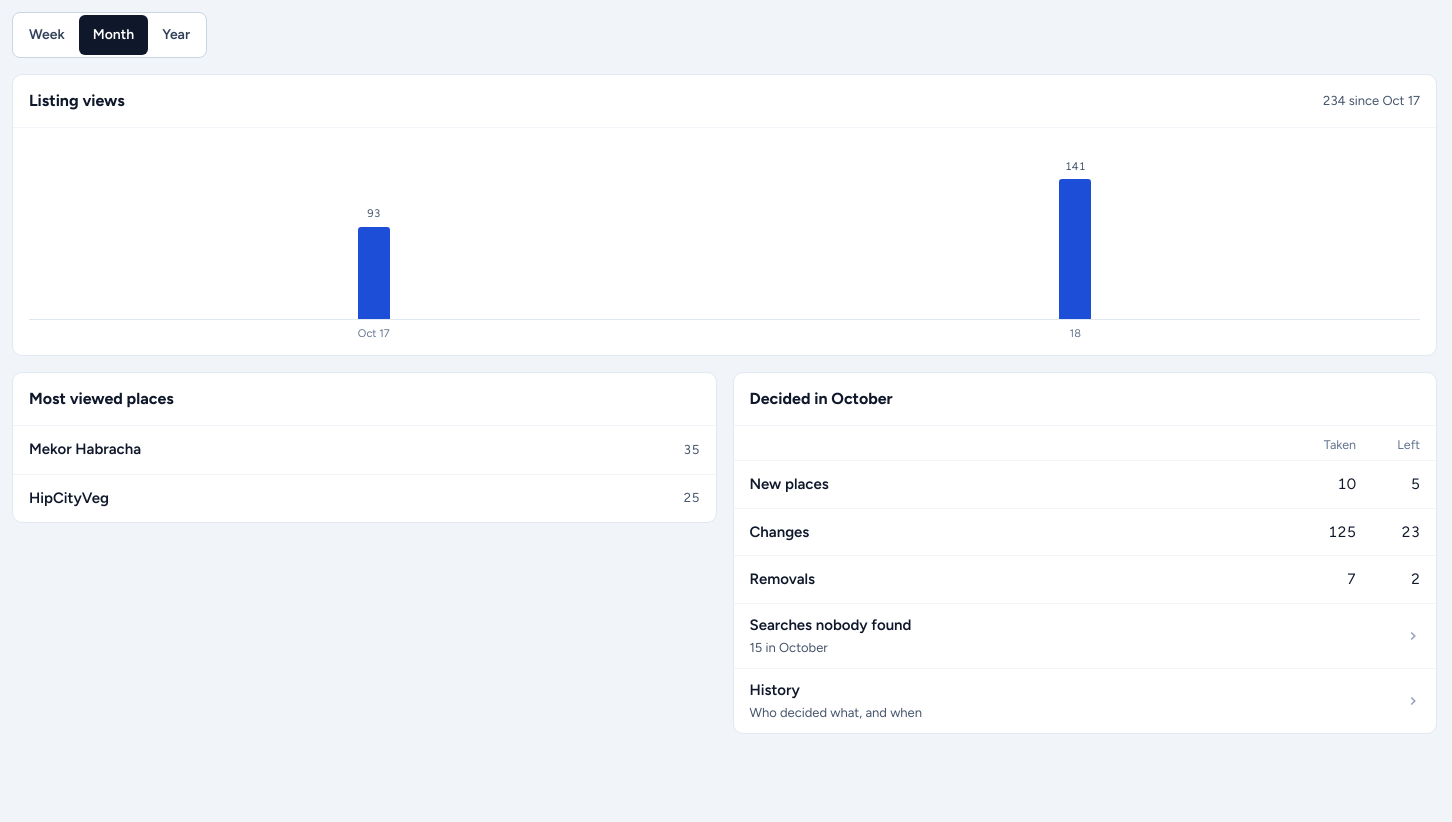
ReportsPanel › a week asks for the week and says so
Check: the heading "Listing views" is shown, box [29,91,125,110]
Click the button "Week".
click(47, 35)  # box [15,15,79,55]
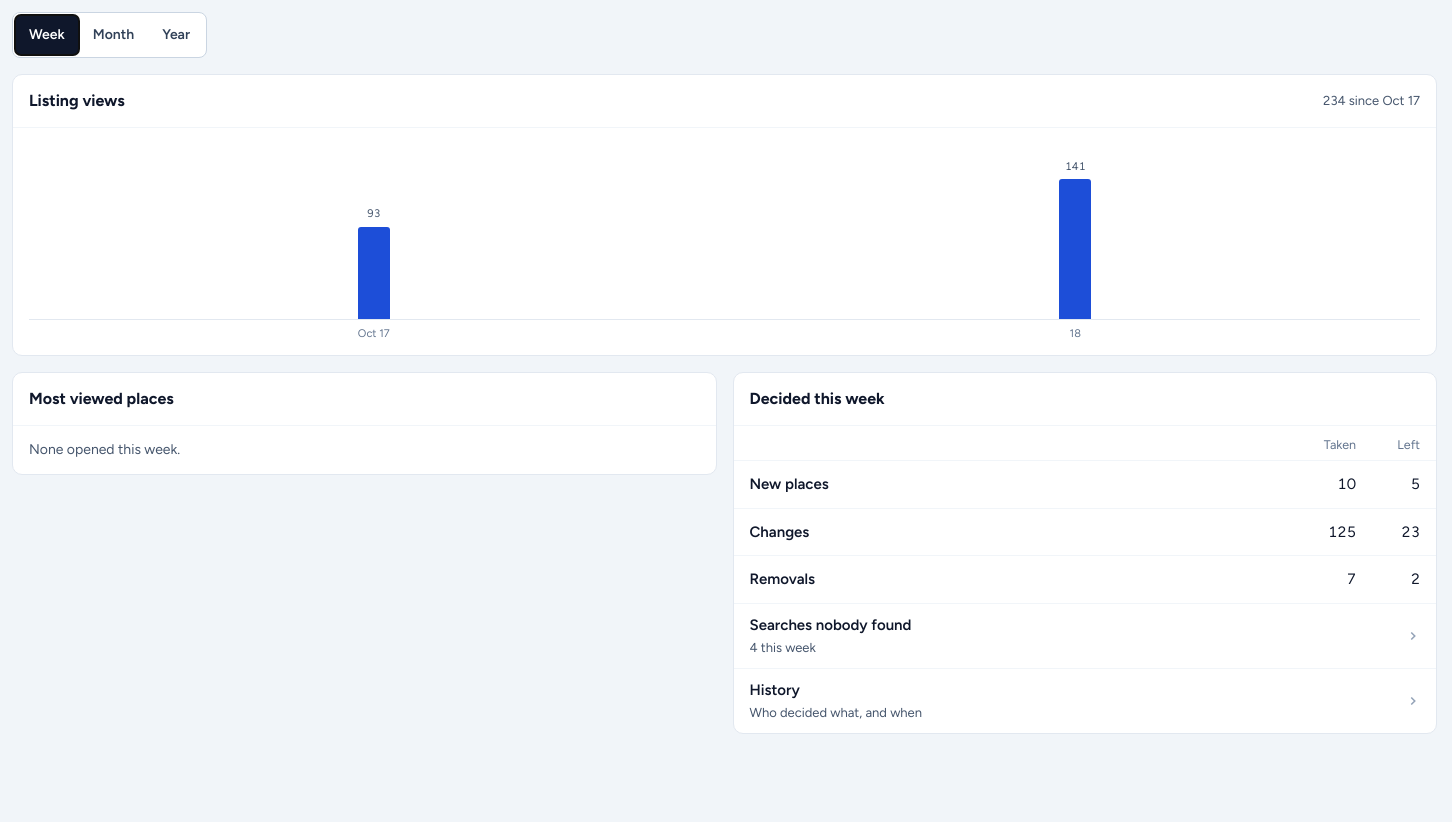
Check: the element "Decided this week" is shown, box [732,372,1437,734]
Check: the text "4 this week" is shown, box [750,640,816,655]
Check: the text "None opened this week." is shown, box [29,440,180,458]
